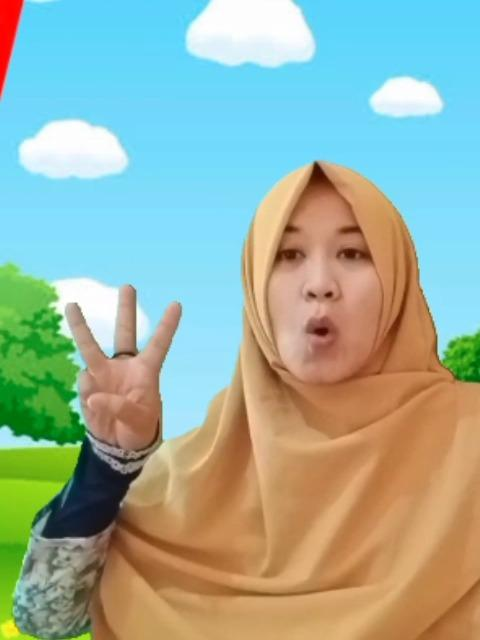W: (66, 282, 184, 448)
